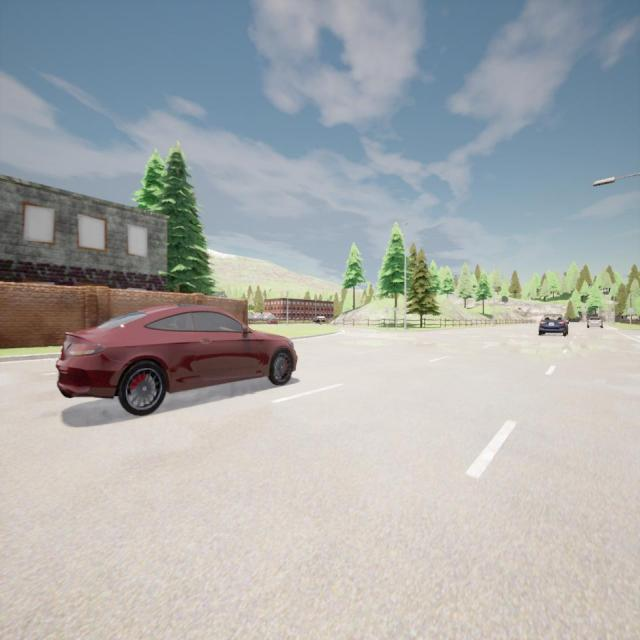Traffic_Signs: (392, 307, 400, 311), (628, 309, 634, 314)
Vehicle: (57, 305, 297, 415), (538, 314, 570, 336), (586, 316, 604, 329), (312, 316, 328, 324), (267, 318, 278, 325)
